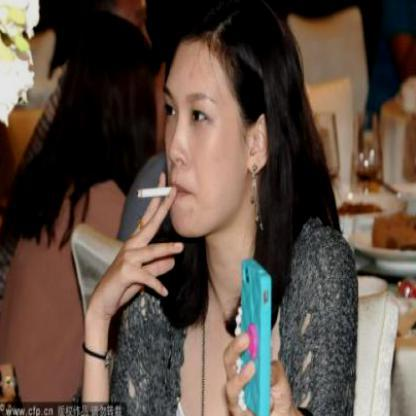cigarette: (135, 183, 175, 201)
person: (115, 0, 342, 415)
